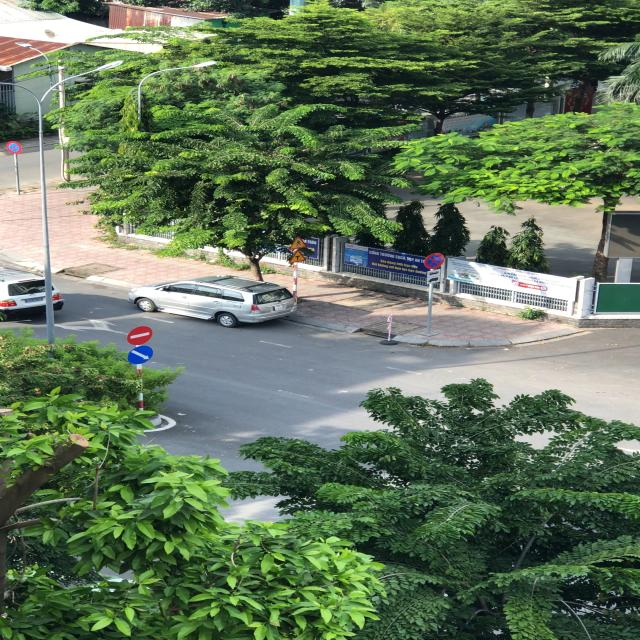Bien bao cam di nguoc chieu: (126, 324, 156, 346)
Bien bao duong giao nhau: (287, 249, 308, 263)
Bien bao duong nguoi di bo cat ngang: (286, 235, 310, 249)
Bien bao huong phai di vong chuong ngai vat: (124, 344, 160, 366)
